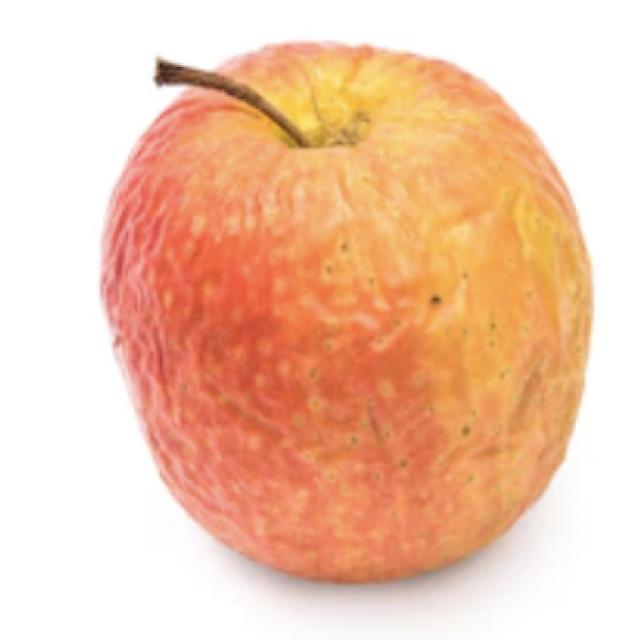Rotten: (100, 37, 597, 585)
